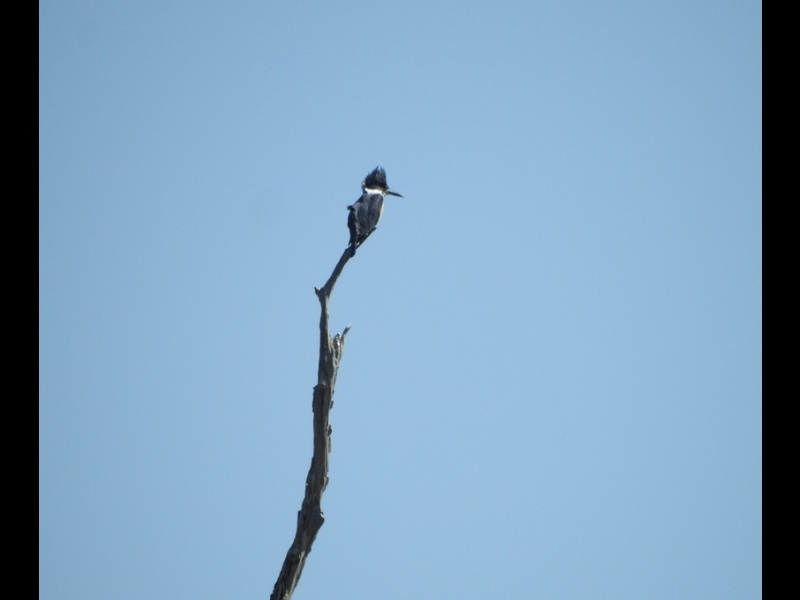kingfisher: (345, 163, 405, 252)
